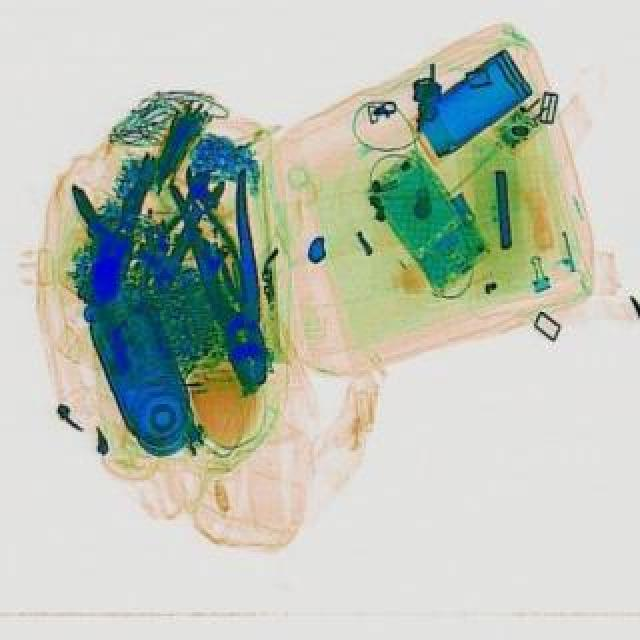scissors: (144, 176, 228, 304)
wrench: (170, 170, 300, 396), (142, 168, 264, 300)
